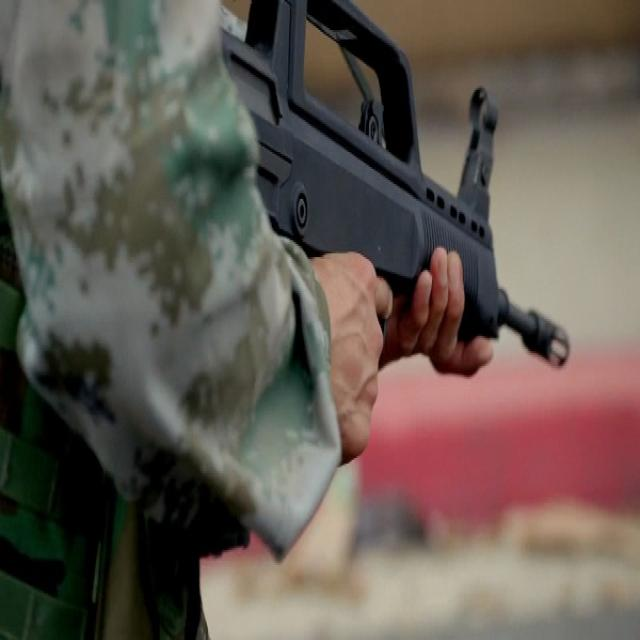rifle: (222, 1, 577, 376)
